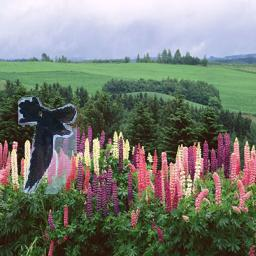Crow: (19, 98, 78, 195)
